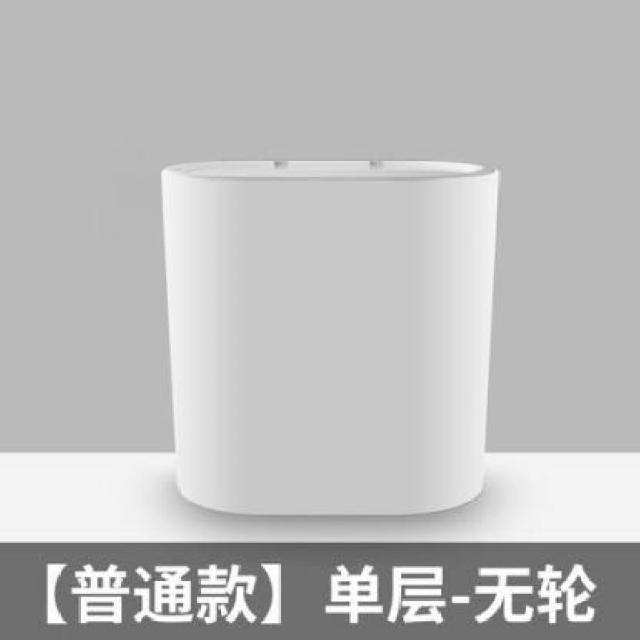dustbin: (157, 154, 502, 521)
